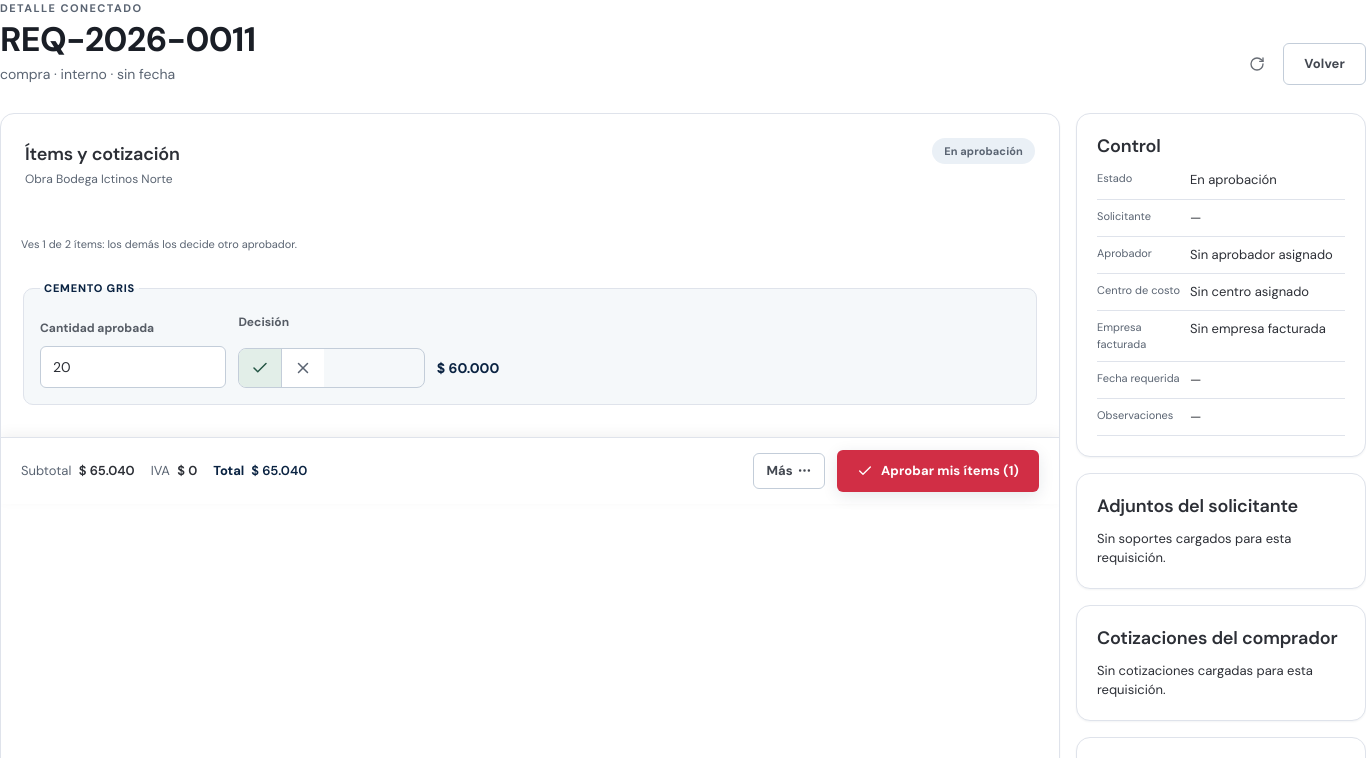
Test: aprobador por ítem en la ficha › APPROVAL_PENDING_OTHERS se muestra como éxito: las decisiones propias sí se guardaron
This screenshot has width=1366, height=758.
Click the button "Aprobar mis ítems (1)" at (938, 471), box [837, 450, 1039, 492]
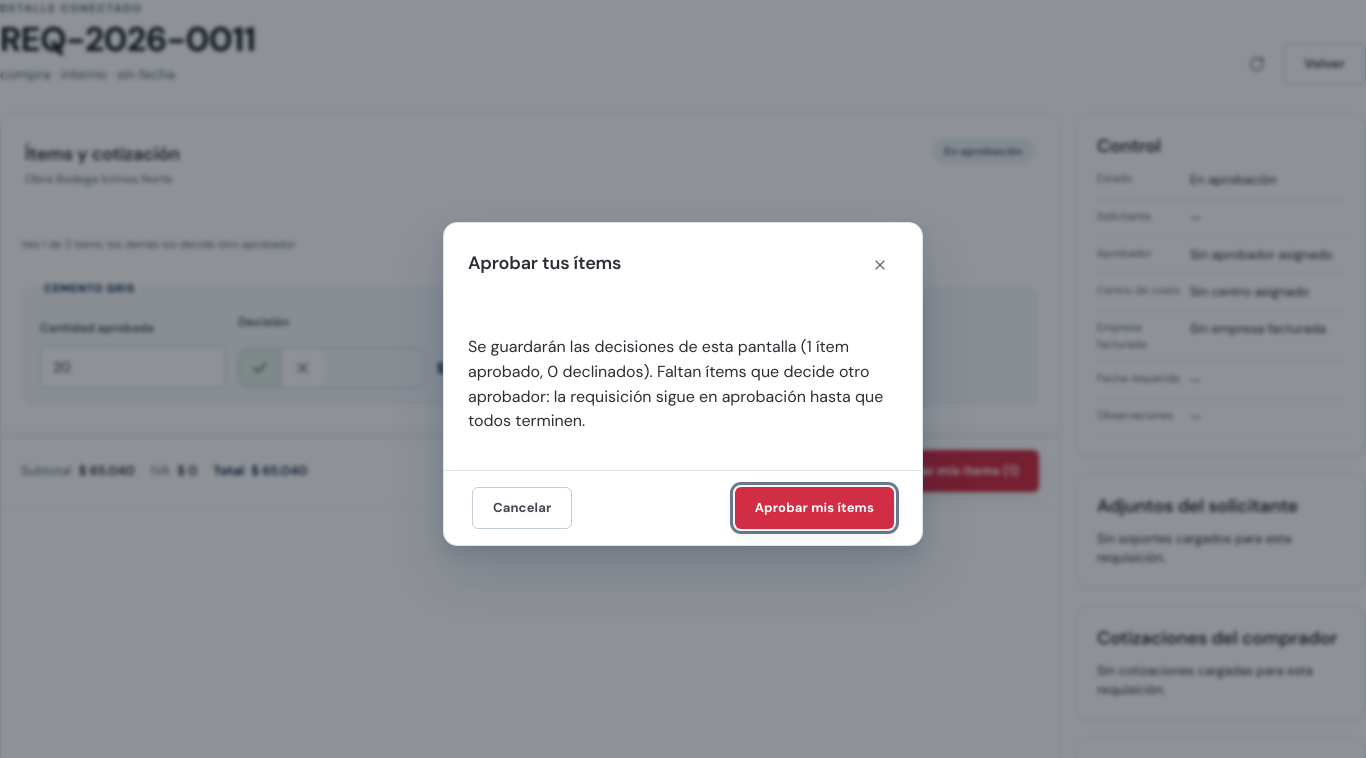
Click the button with test id "confirm-dialog-confirm" at (814, 508), box [735, 487, 894, 529]
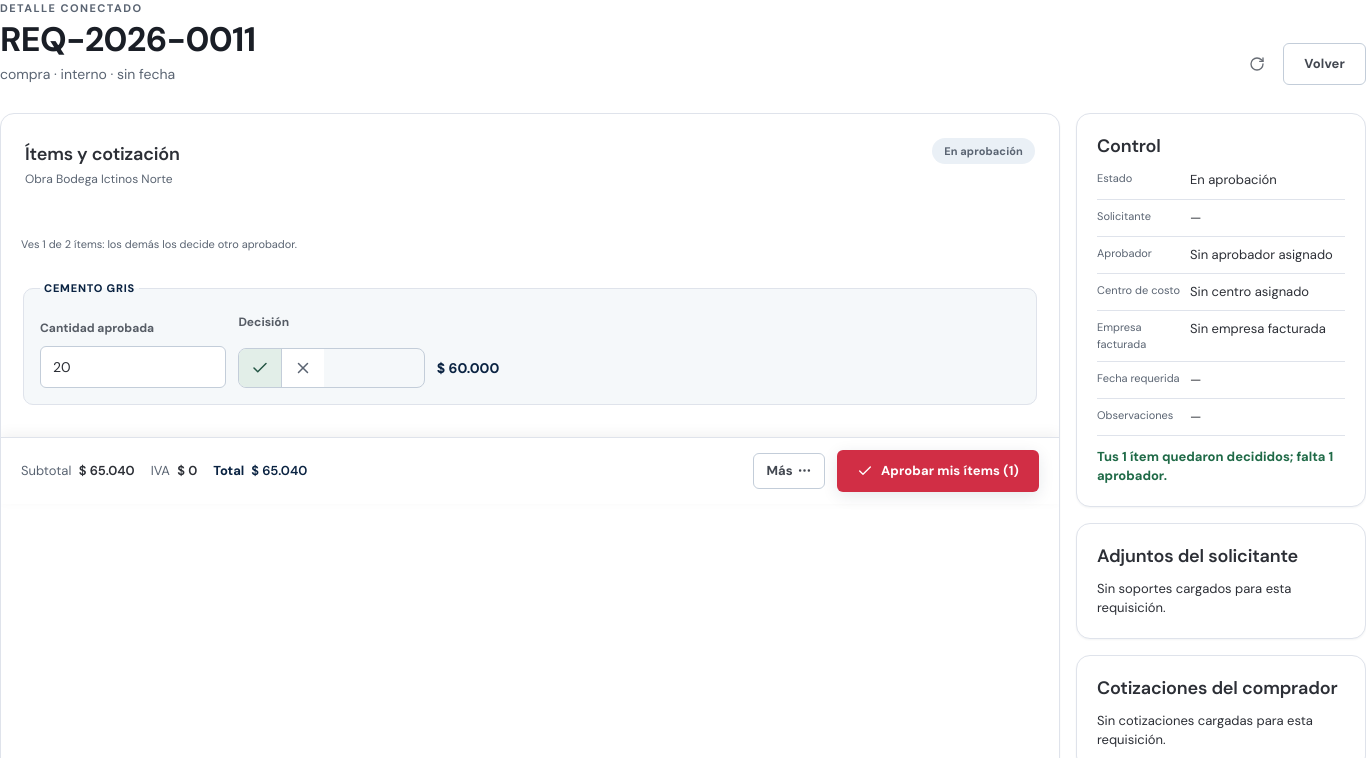
Result: the text "Tus 1 ítem quedaron decididos; falta 1 aprobador." is shown at [1097, 448, 1345, 486]
